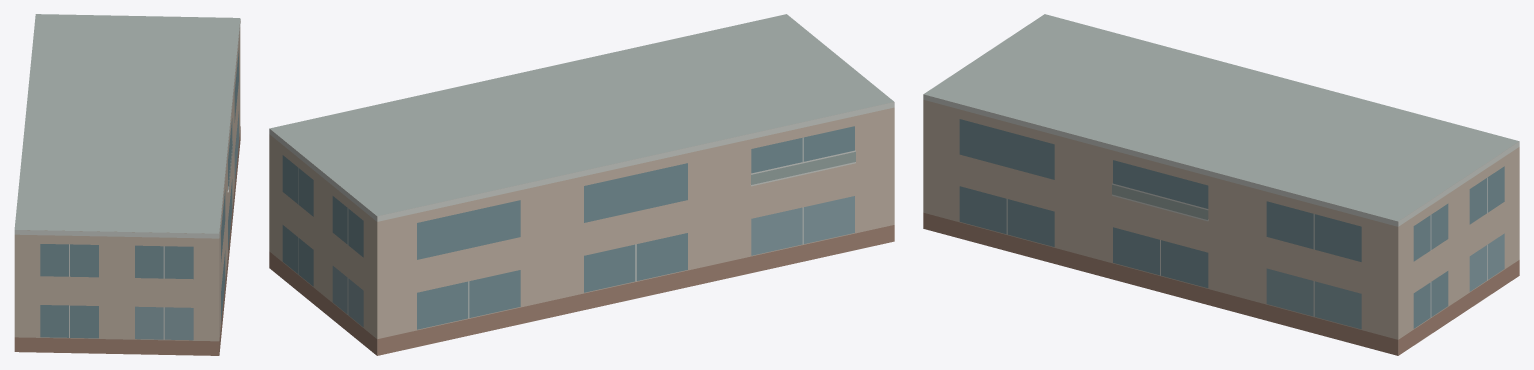
Rendered from survey-upis-32701418.glb.
The picture shows the model from 3 angles, left to right: view 1: azimuth 30°, elevation 25°; view 2: azimuth 150°, elevation 25°; view 3: azimuth 270°, elevation 25°; orthographic projection. The views are drawn at different scales.
Parts seen in each view (by area): view 1: survey-upis-32701418.tmp; view 2: survey-upis-32701418.tmp; view 3: survey-upis-32701418.tmp.
Boxes of the visible parts, x1,y1,x2,y2 form: survey-upis-32701418.tmp: (14, 14, 240, 355); survey-upis-32701418.tmp: (269, 14, 894, 355); survey-upis-32701418.tmp: (923, 14, 1519, 355).
Size of the model in its own units: 20.21 by 6.1 by 24.54.
